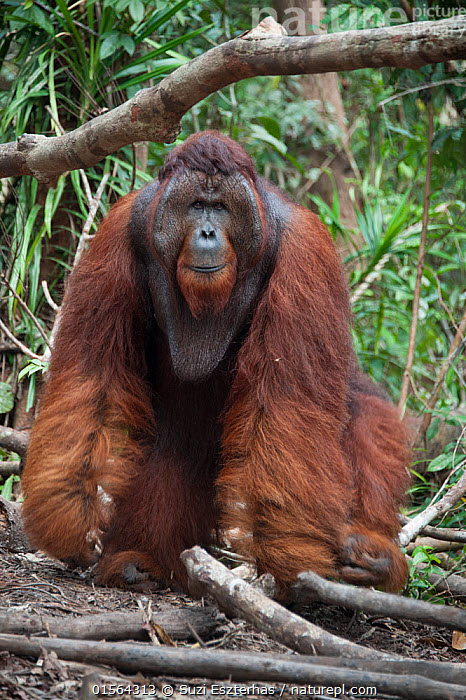Orangutan: (47, 136, 382, 576)
